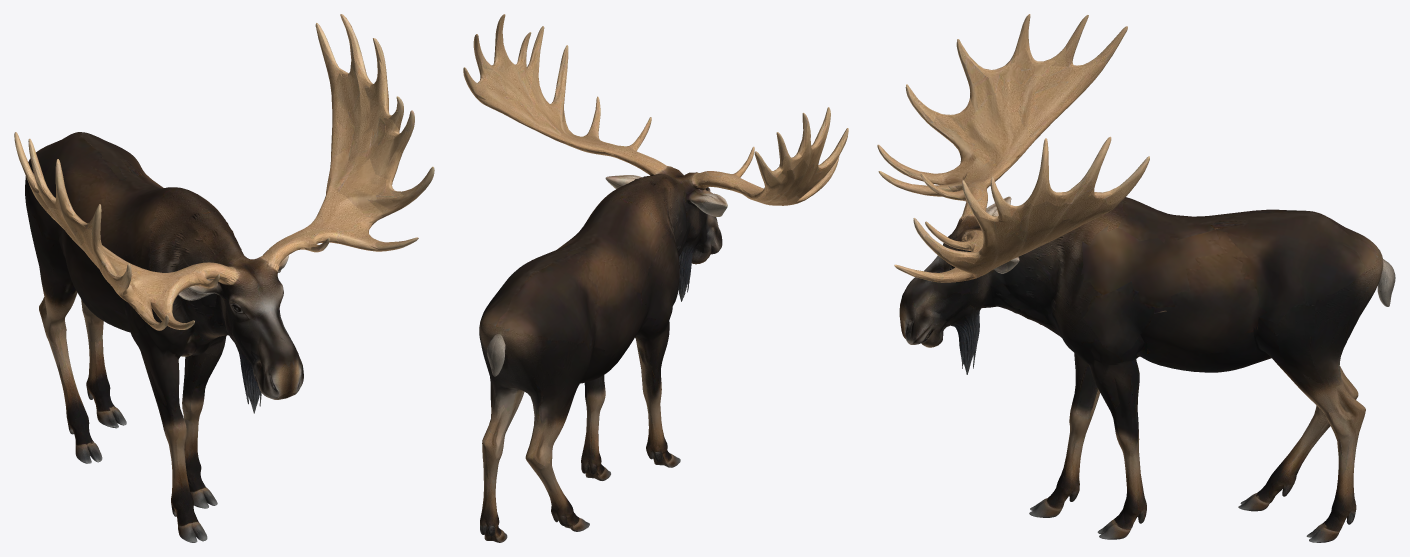
Rendered from moose.glb.
3 views of the same model, side by side, from view 1: azimuth 30°, elevation 25°; view 2: azimuth 150°, elevation 25°; view 3: azimuth 270°, elevation 25° (orthographic). The views are drawn at different scales.
Size of the model in its own units: 1.47 by 1.89 by 1.9.
Materials: 1 (1 with a texture image).
